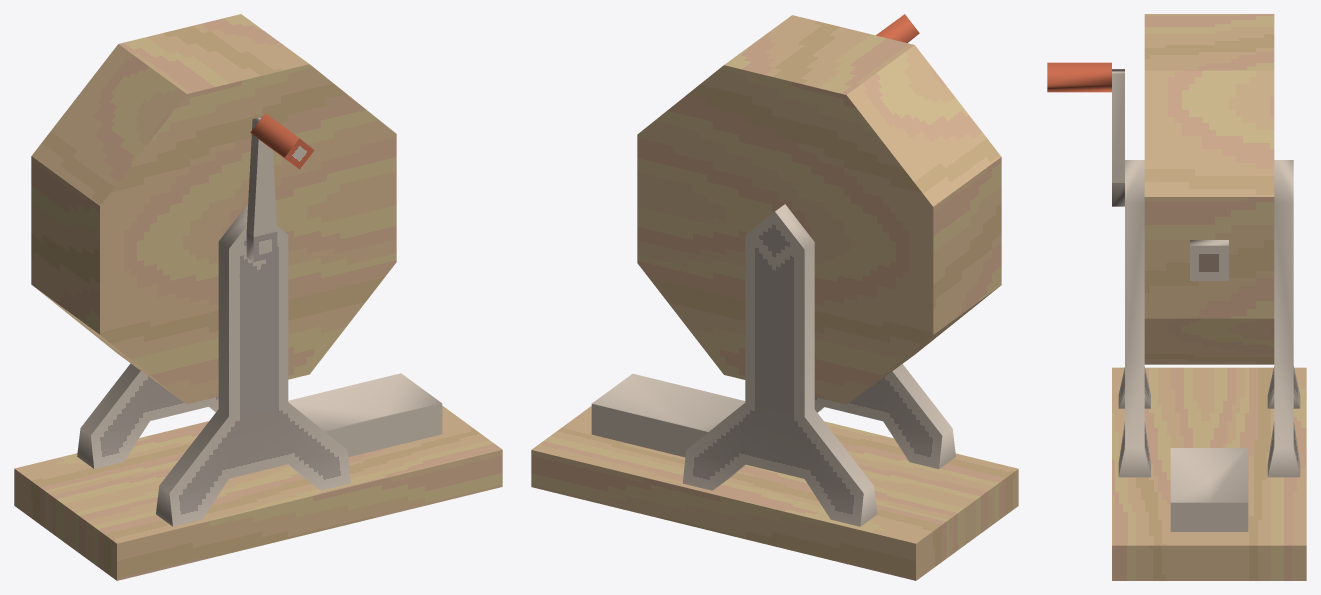
File: 0023_Lottery.glb
3 views of the same model, side by side, from view 1: azimuth 30°, elevation 25°; view 2: azimuth 150°, elevation 25°; view 3: azimuth 270°, elevation 25° (orthographic). The views are drawn at different scales.
Visible parts, largest first — view 1: part_1, part_0; view 2: part_1, part_0; view 3: part_0, part_1.
Boxes of the visible parts, <box> form: part_1: <box>31,14,396,404</box>; part_0: <box>14,204,502,580</box>; part_1: <box>637,14,1001,404</box>; part_0: <box>531,204,1018,580</box>; part_0: <box>1112,160,1306,580</box>; part_1: <box>1047,14,1274,364</box>.
Bounding box in the file's own units: 0.325 × 0.365 × 0.2.
Materials: 2 (2 with a texture image).
